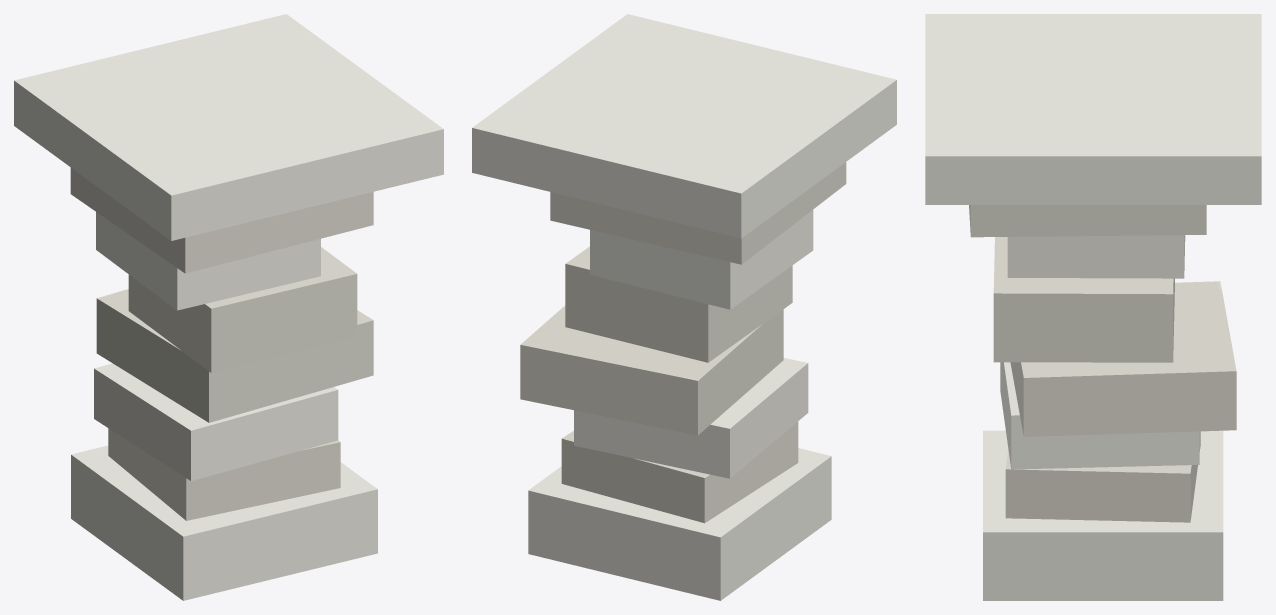
Rendered from pillarSlabs3.glb.
3 renders of one model, left to right at view 1: azimuth 30°, elevation 25°; view 2: azimuth 150°, elevation 25°; view 3: azimuth 270°, elevation 25°, orthographic. The views are drawn at different scales.
Parts seen in each view (by area): view 1: pillarSlabs3; view 2: pillarSlabs3; view 3: pillarSlabs3.
Part boxes in pixels (left/top/right/bottom): pillarSlabs3: left=14, top=14, right=443, bottom=600; pillarSlabs3: left=472, top=14, right=896, bottom=600; pillarSlabs3: left=925, top=14, right=1261, bottom=600.
Size of the model in its own units: 0.5849 by 0.8914 by 0.5849.
Materials: 1 (1 with a texture image).
